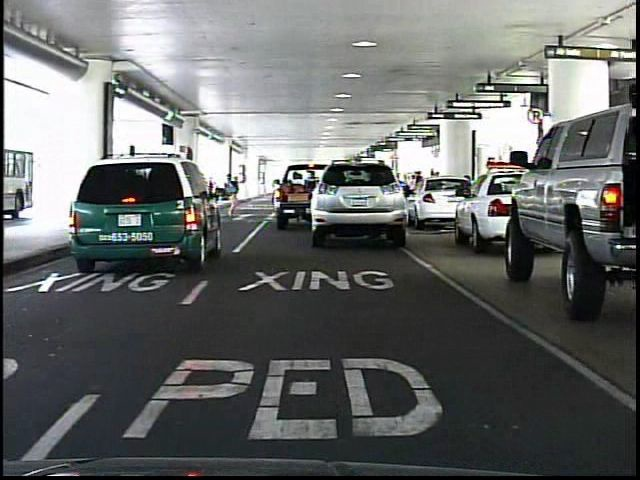person: (217, 168, 241, 221)
